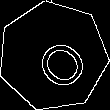O_NW: (19, 23, 87, 89)
